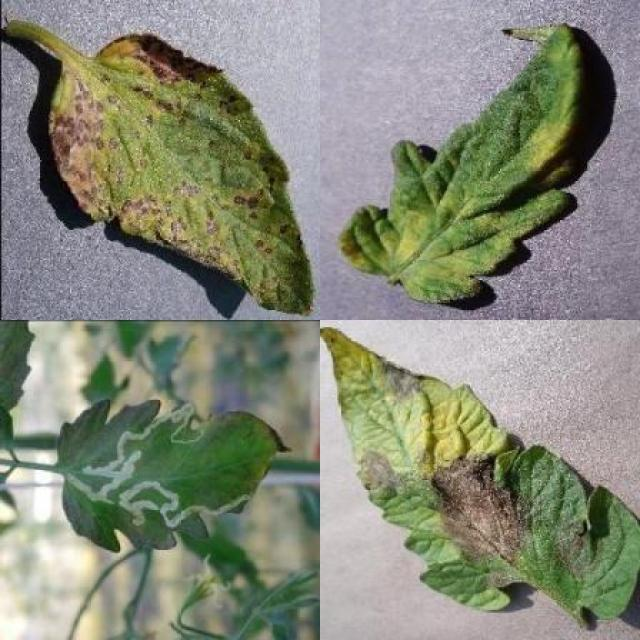Late Blight: (320, 324, 640, 619)
Leaf Miner: (54, 398, 295, 555)
Leaf Mold: (339, 21, 585, 302)
Septoria: (45, 34, 315, 316)
